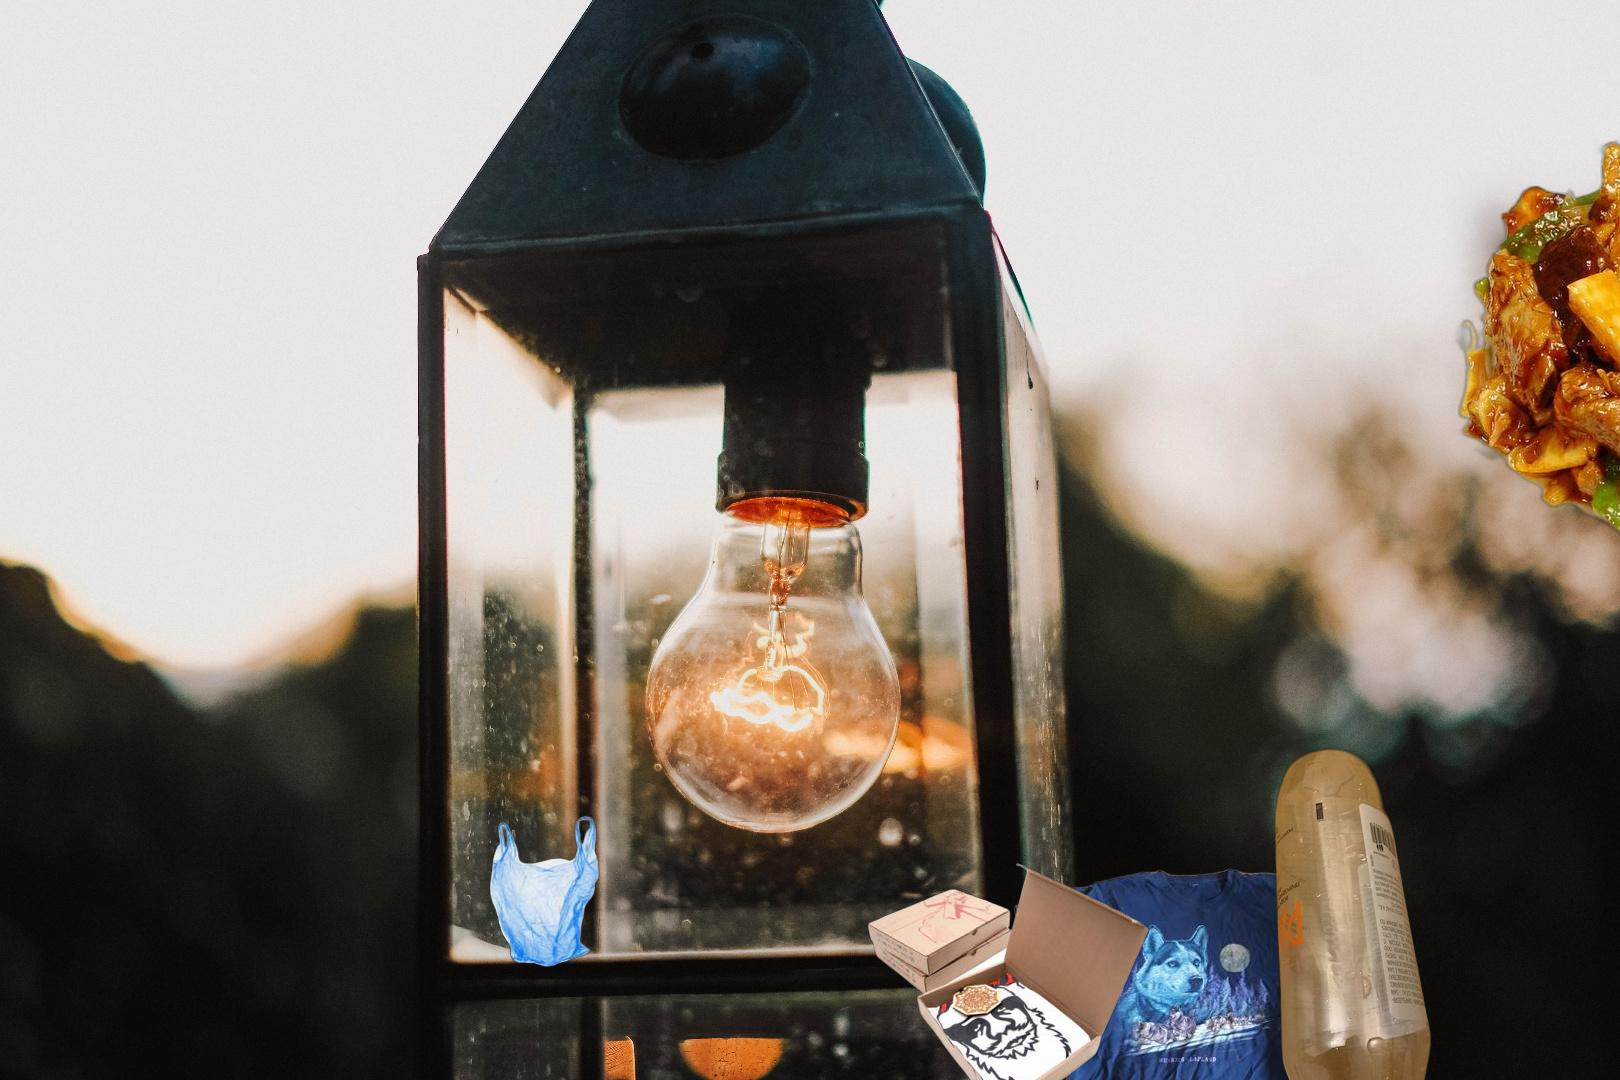biological: (1451, 102, 1620, 574)
clothes: (1010, 863, 1383, 1080)
plastic-bag: (487, 814, 601, 968)
plastic-bottles: (1270, 745, 1436, 1080)
trashbox-cardboard: (865, 859, 1152, 1080)
